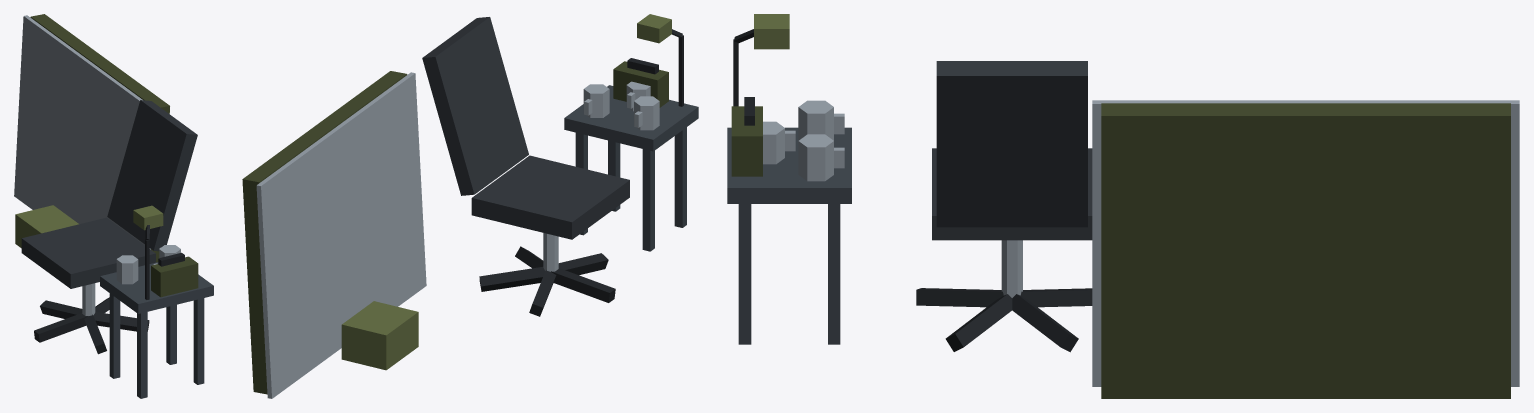
File: prop_vendor_watch.fbx
3 views of the same model, side by side, from view 1: azimuth 30°, elevation 25°; view 2: azimuth 150°, elevation 25°; view 3: azimuth 270°, elevation 25° (orthographic). The views are drawn at different scales.
Parts seen in each view (by area): view 1: prop_vendor_watch; view 2: prop_vendor_watch; view 3: prop_vendor_watch.
Boxes of the visible parts, x1,y1,x2,y2 form: prop_vendor_watch: [14, 14, 213, 398]; prop_vendor_watch: [242, 14, 698, 398]; prop_vendor_watch: [727, 14, 1519, 398].
Bounding box in the file's own units: 341 × 395 × 890.
